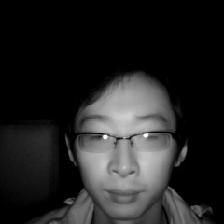normal: (42, 50, 194, 222)
